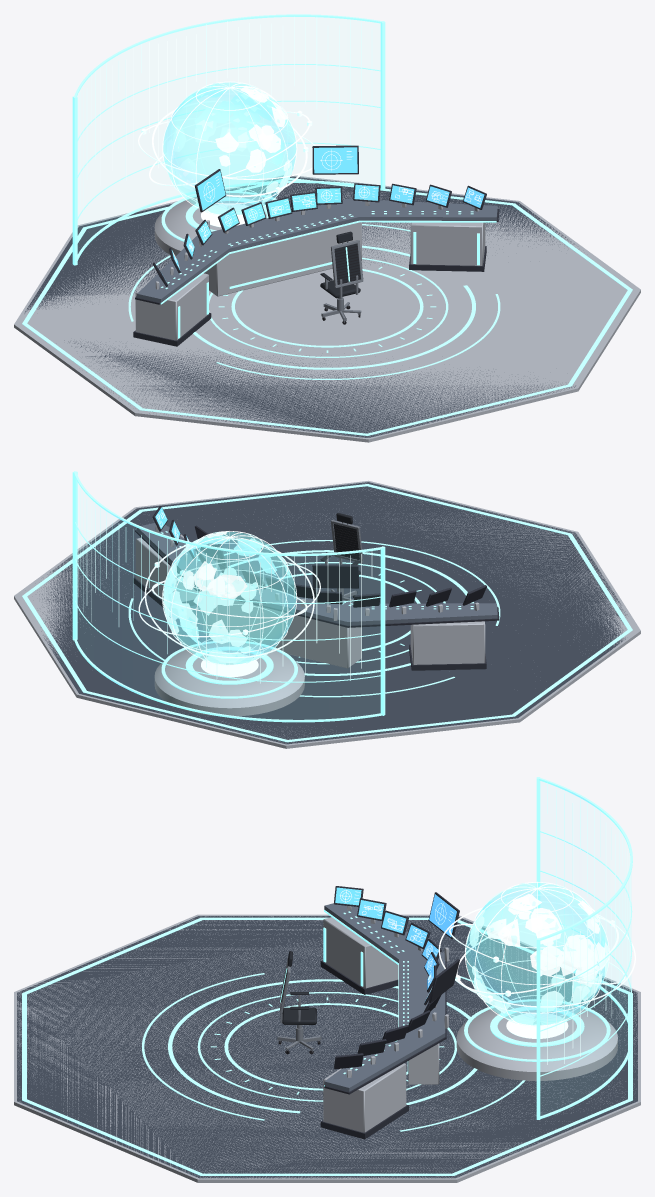
The model's file is control tower.glb.
The picture shows the model from 3 angles, top to bottom: view 1: azimuth 30°, elevation 25°; view 2: azimuth 150°, elevation 25°; view 3: azimuth 270°, elevation 25°; orthographic projection. The views are drawn at different scales.
Visible parts, largest first — view 1: CT_PlatformTrim, CT_Platform, CT_Globe, CT_DeskTop, CT_GlobeLand, CT_DeskPods, CT_HoloFrame, CT_DeskPedestal, CT_MonScreens, CT_EdgeGlow, CT_FloorRings, CT_HoloStreams (+9 smaller); view 2: CT_Platform, CT_PlatformTrim, CT_Globe, CT_ProjBase, CT_HoloFrame, CT_DeskTop, CT_GlobeLand, CT_DeskPedestal, CT_EdgeGlow, CT_DeskPods, CT_MonFrames, CT_HoloStreams (+11 smaller); view 3: CT_Platform, CT_PlatformTrim, CT_Globe, CT_ProjBase, CT_DeskTop, CT_GlobeLand, CT_DeskPods, CT_FloorRings, CT_EdgeGlow, CT_HoloFrame, CT_MonFrames, CT_GlobeGrid (+8 smaller).
Part boxes in pixels (x1,y1,x2,y2): CT_PlatformTrim: (14, 175, 640, 442); CT_Platform: (24, 176, 575, 437); CT_Globe: (163, 82, 296, 214); CT_DeskTop: (137, 198, 497, 302); CT_GlobeLand: (166, 84, 293, 202); CT_DeskPods: (135, 222, 485, 340); CT_HoloFrame: (72, 14, 385, 265); CT_DeskPedestal: (204, 222, 361, 296); CT_MonScreens: (162, 147, 484, 274); CT_EdgeGlow: (22, 178, 632, 435); CT_FloorRings: (128, 224, 500, 379); CT_HoloStreams: (78, 17, 372, 212); CT_Platform: (39, 482, 627, 744); CT_PlatformTrim: (14, 480, 640, 748); CT_Globe: (163, 532, 296, 664); CT_ProjBase: (154, 642, 304, 716); CT_HoloFrame: (72, 471, 385, 722); CT_DeskTop: (137, 523, 497, 625); CT_GlobeLand: (163, 531, 289, 663); CT_DeskPedestal: (203, 600, 361, 668); CT_EdgeGlow: (22, 484, 632, 742); CT_DeskPods: (135, 534, 485, 664); CT_MonFrames: (152, 506, 486, 607); CT_HoloStreams: (78, 484, 372, 683); CT_Platform: (17, 916, 637, 1178); CT_PlatformTrim: (14, 914, 640, 1182); CT_Globe: (466, 883, 607, 1025); CT_ProjBase: (456, 1001, 617, 1080); CT_DeskTop: (324, 903, 445, 1091); CT_GlobeLand: (466, 894, 608, 1013); CT_DeskPods: (323, 917, 406, 1132); CT_FloorRings: (142, 973, 525, 1131); CT_EdgeGlow: (22, 917, 632, 1175); CT_HoloFrame: (536, 777, 632, 1119); CT_MonFrames: (333, 886, 459, 1069); CT_GlobeGrid: (465, 881, 609, 1026).
Bounding box in the file's own units: 10.1 × 3.41 × 10.1.
